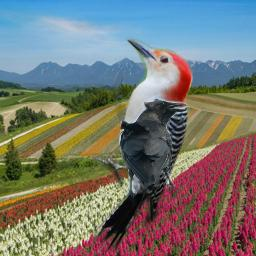Crow: (119, 97, 187, 206)
Woodpecker: (92, 37, 193, 252)
